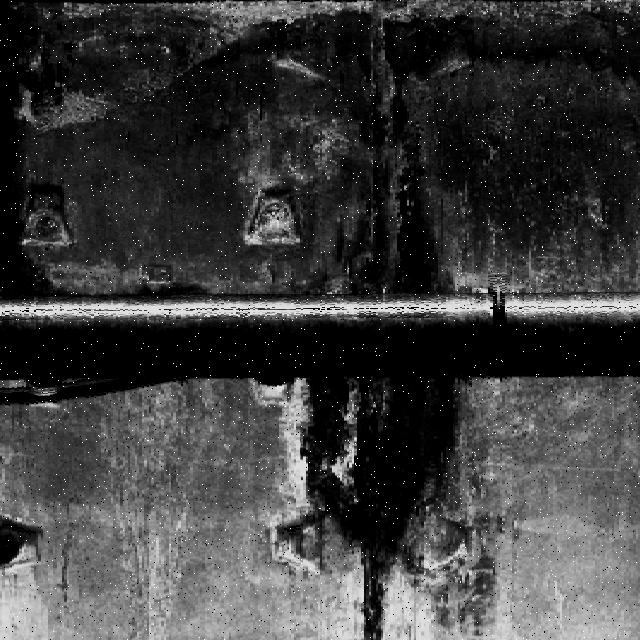leakage: (271, 379, 489, 639), (321, 78, 449, 295), (1, 2, 75, 306)
